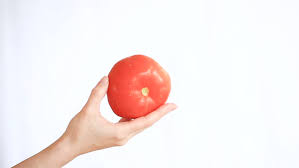tomato: (107, 55, 171, 117)
